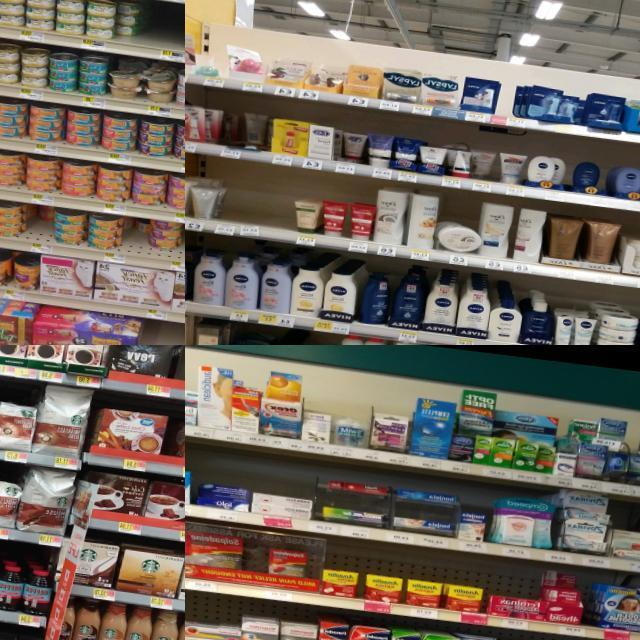Imprecise: (216, 106, 269, 149), (125, 218, 183, 256), (112, 0, 144, 48), (22, 204, 59, 242), (472, 143, 498, 185), (339, 126, 367, 163)
